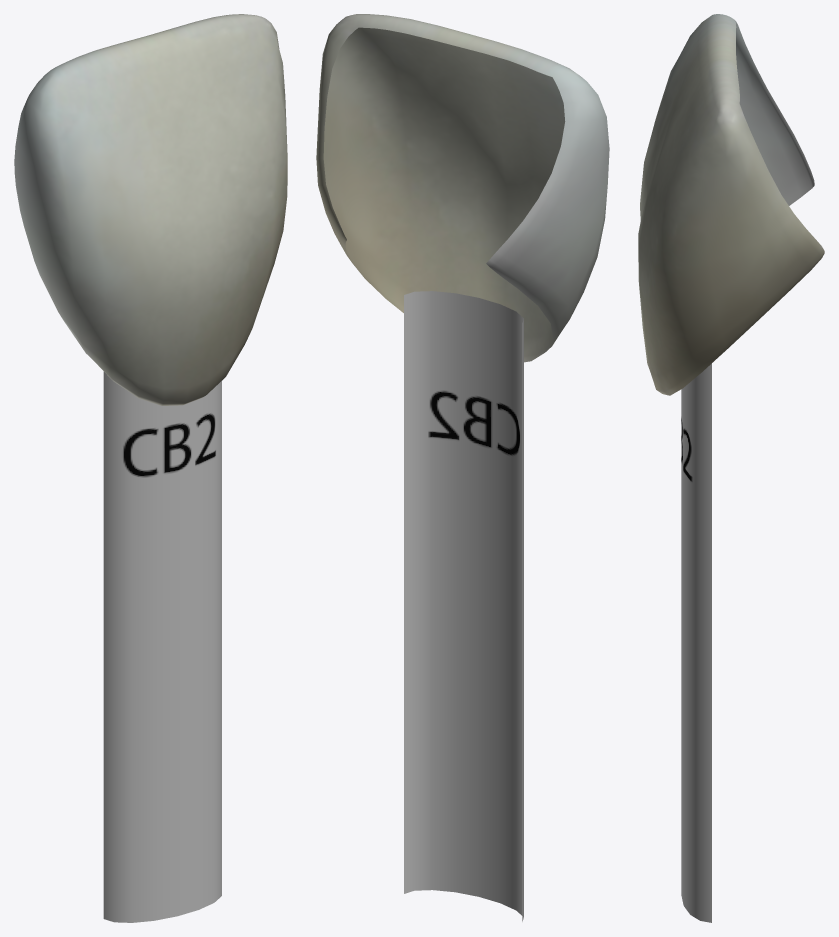
3 renders of one model, left to right at view 1: azimuth 30°, elevation 25°; view 2: azimuth 150°, elevation 25°; view 3: azimuth 270°, elevation 25°, orthographic. The views are drawn at different scales.
Visible parts, largest first — view 1: Tab; view 2: Tab; view 3: Tab.
Part boxes in pixels (x1=…): Tab: x1=14, y1=14, x2=287, y2=922; Tab: x1=316, y1=14, x2=609, y2=921; Tab: x1=638, y1=14, x2=824, y2=922.
Bounding box in the file's own units: 0.00859 × 0.0273 × 0.00547.
1 material, 1 textured.
